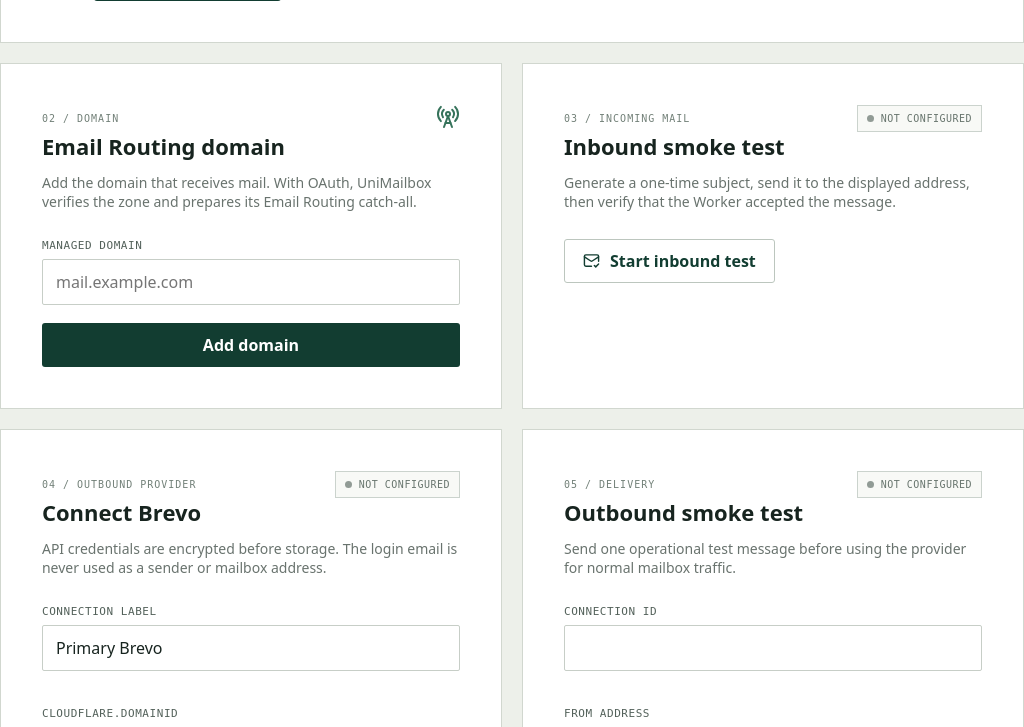
CloudflareSettings › shows contract validation when a configuration form is invalid
(page scrolled)
Check: the heading "Email Routing domain" is shown, box [42, 131, 285, 161]
Click the button "Add domain" at (251,345), box [42, 323, 460, 367]
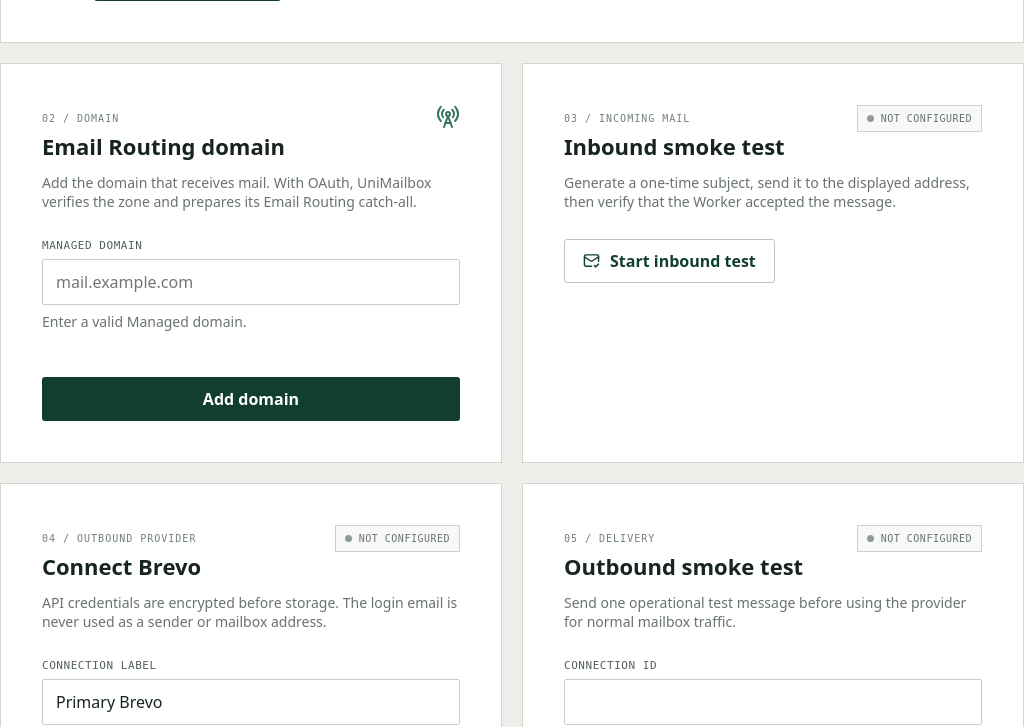
Check: the message shows "Managed domain", box [42, 312, 247, 331]
